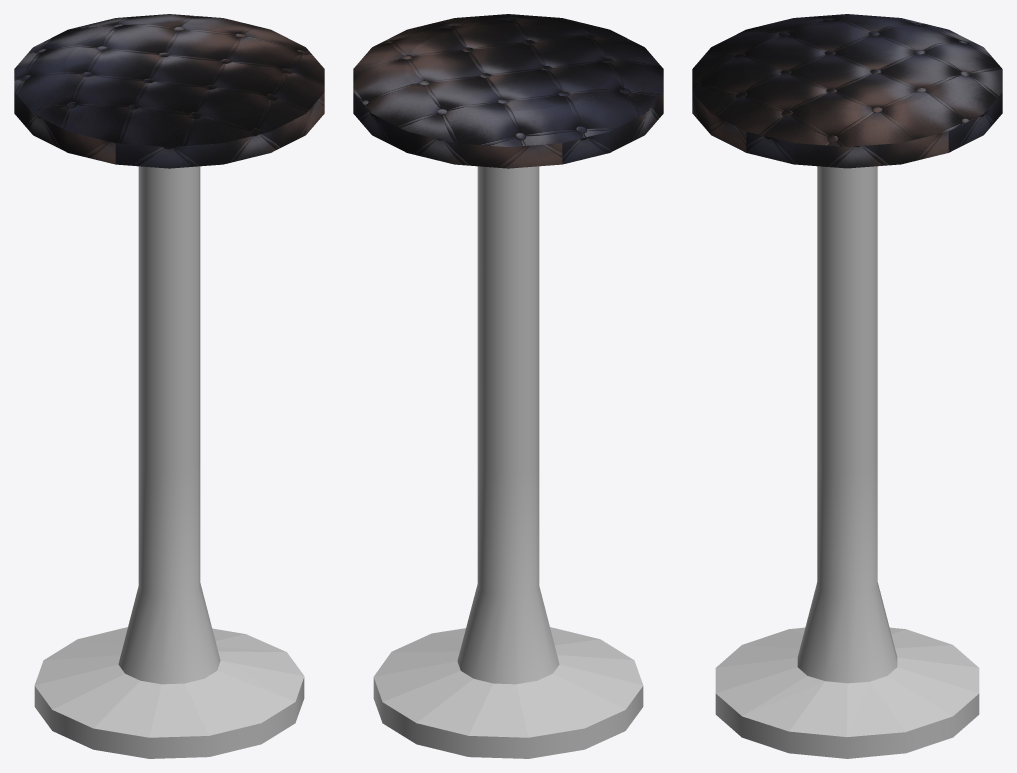
The model's file is tabouret.FBX.
The picture shows the model from 3 angles, left to right: view 1: azimuth 30°, elevation 25°; view 2: azimuth 150°, elevation 25°; view 3: azimuth 270°, elevation 25°; orthographic projection.
Parts seen in each view (by area): view 1: tabouret; view 2: tabouret; view 3: tabouret.
Part boxes in pixels (box(x1,y1,x2,y2)): tabouret: box(14, 14, 324, 758); tabouret: box(353, 14, 663, 758); tabouret: box(692, 14, 1002, 758).
Bounding box in the file's own units: 1.57 × 3.5 × 1.55.
